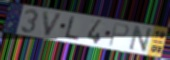3: (19, 8, 39, 35)
4: (86, 19, 103, 45)
L: (64, 15, 82, 41)
N: (128, 24, 154, 53)
P: (107, 22, 130, 48)
V: (43, 11, 65, 39)
